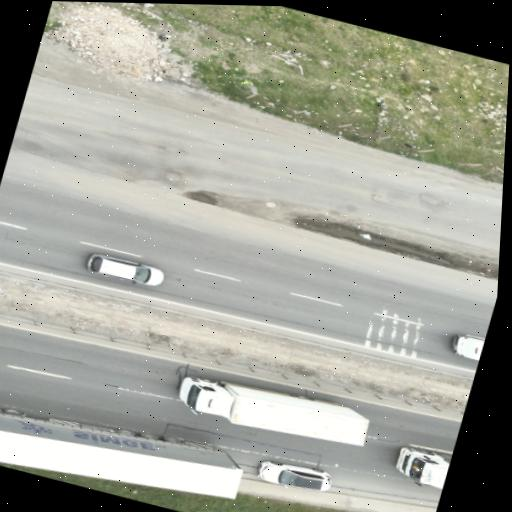car: (86, 253, 163, 285), (258, 460, 330, 490), (453, 335, 484, 359)
truck: (0, 408, 242, 497), (179, 376, 368, 444), (396, 446, 451, 487)
